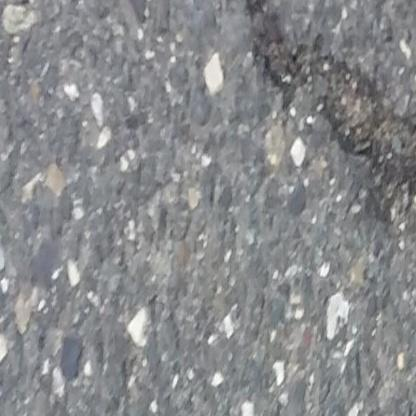Cracks: (239, 0, 416, 221)
